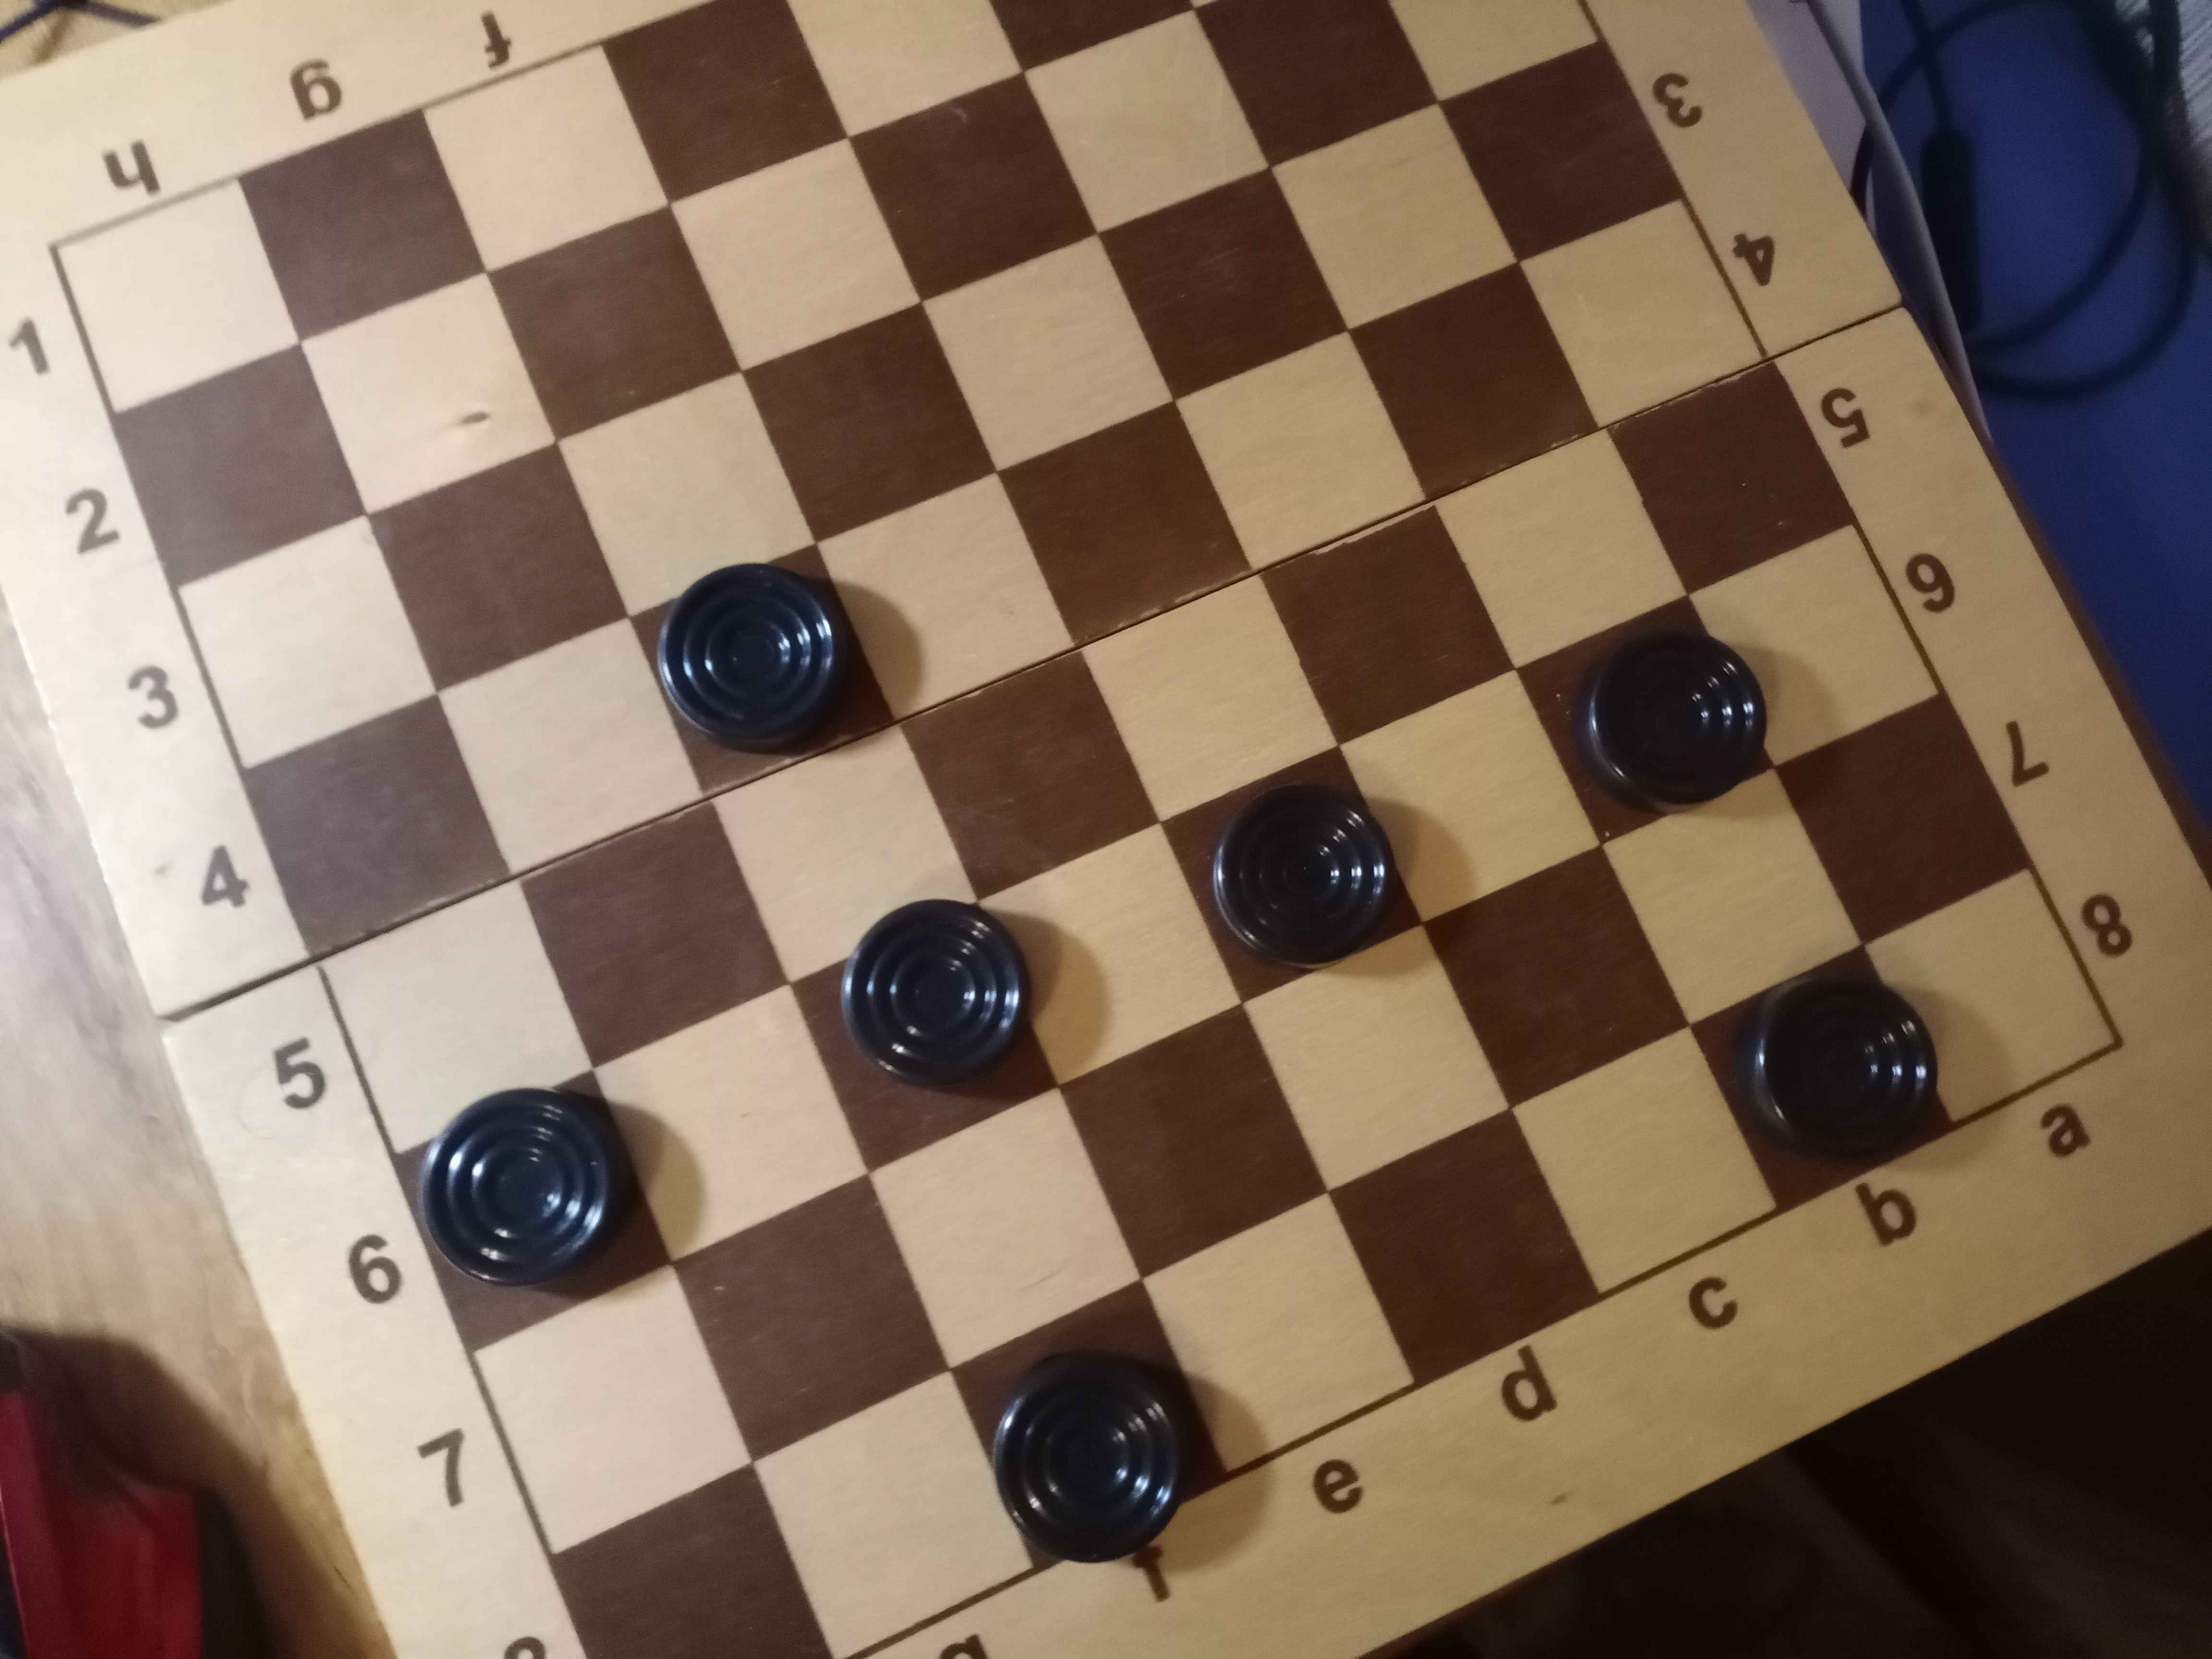Black_Draught: (953, 1279, 1228, 1570), (392, 1072, 672, 1354), (789, 899, 1062, 1171), (1689, 950, 1952, 1215), (627, 544, 899, 798), (1160, 748, 1425, 1006), (1515, 596, 1773, 850)
